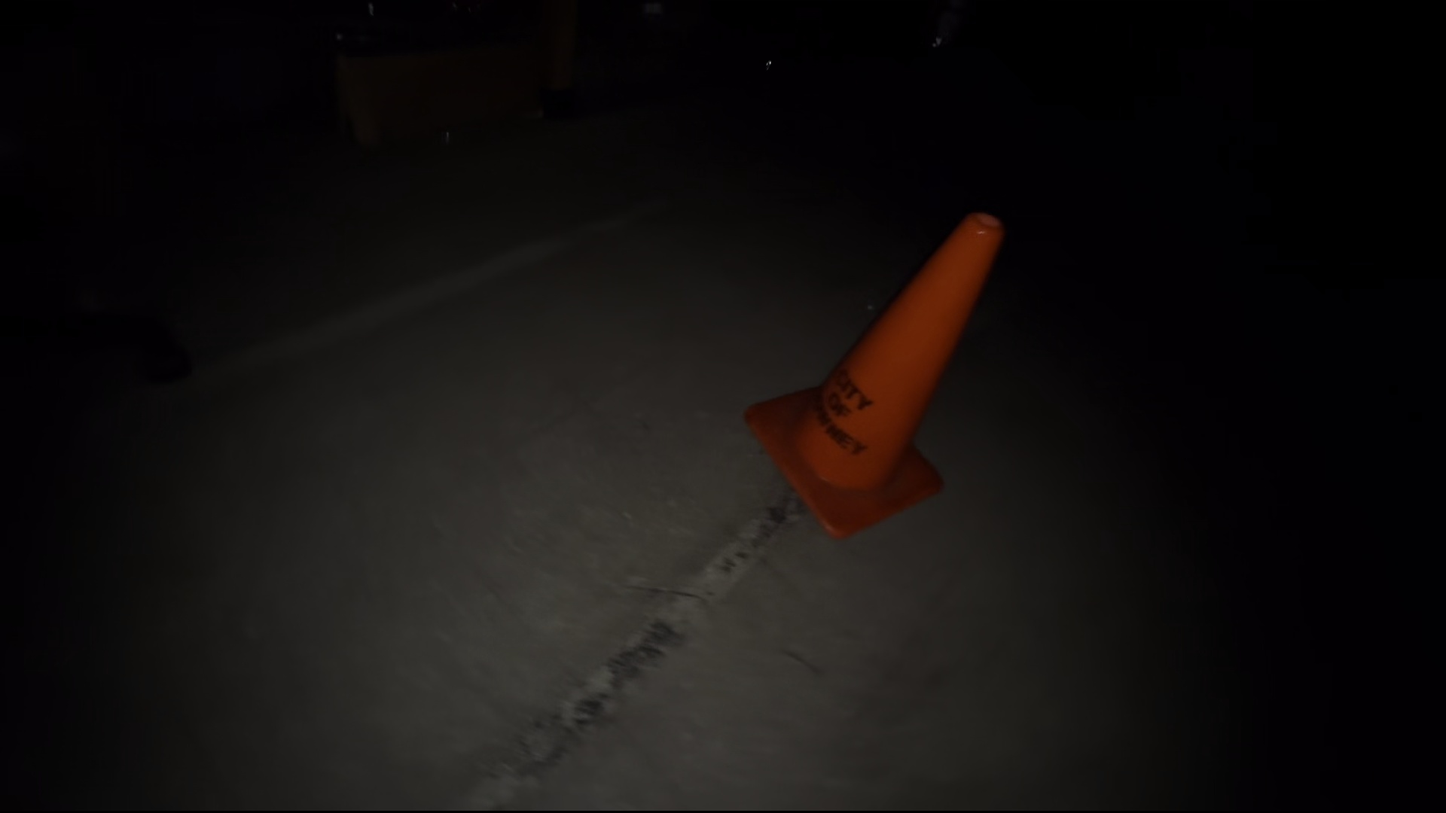traffic_cone: (742, 210, 1006, 540)
